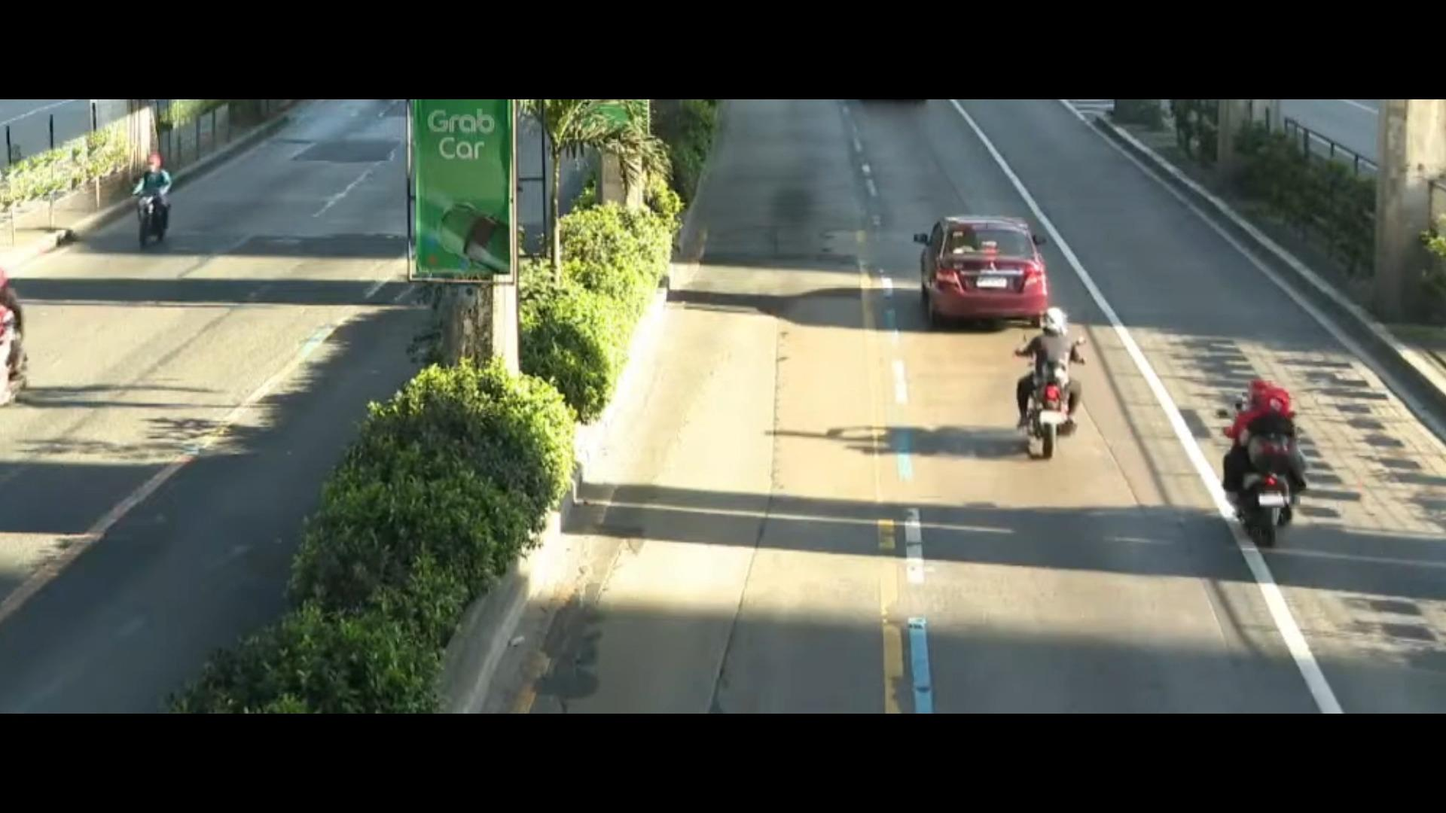Motorcycle: (971, 294, 1117, 455), (1215, 356, 1322, 557), (132, 143, 196, 252)
Sedan: (908, 192, 1075, 337)
